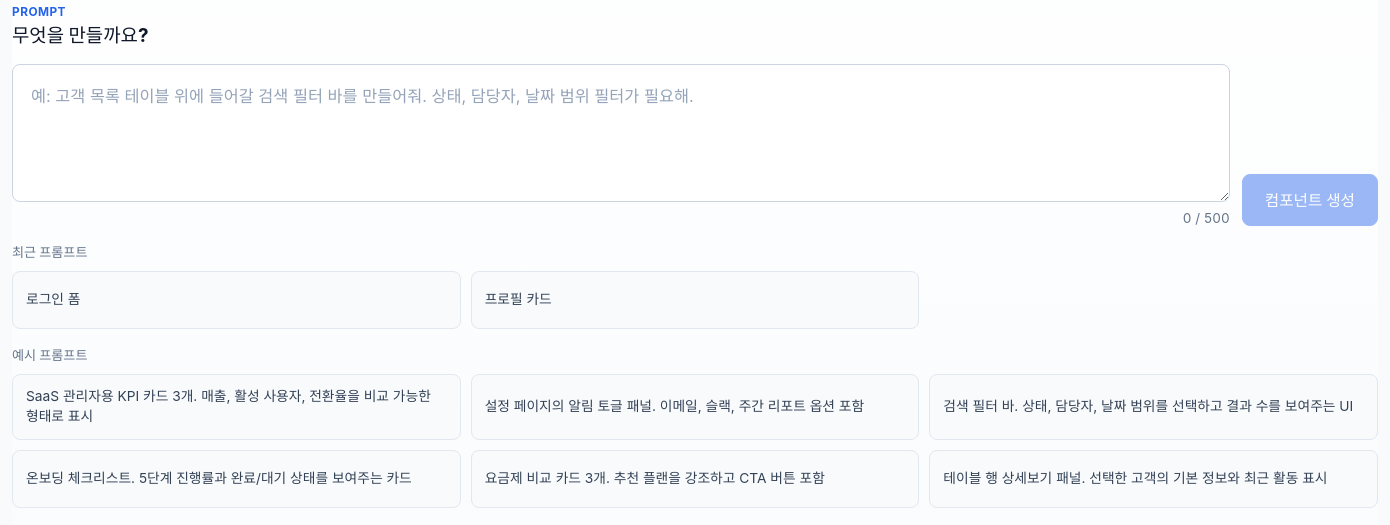
Test case: PromptInput › 최근 프롬프트 목록을 보여주고 클릭하면 입력창에 채운다
Click the button "로그인 폼": [53, 299] box 12,271 -> 461,329
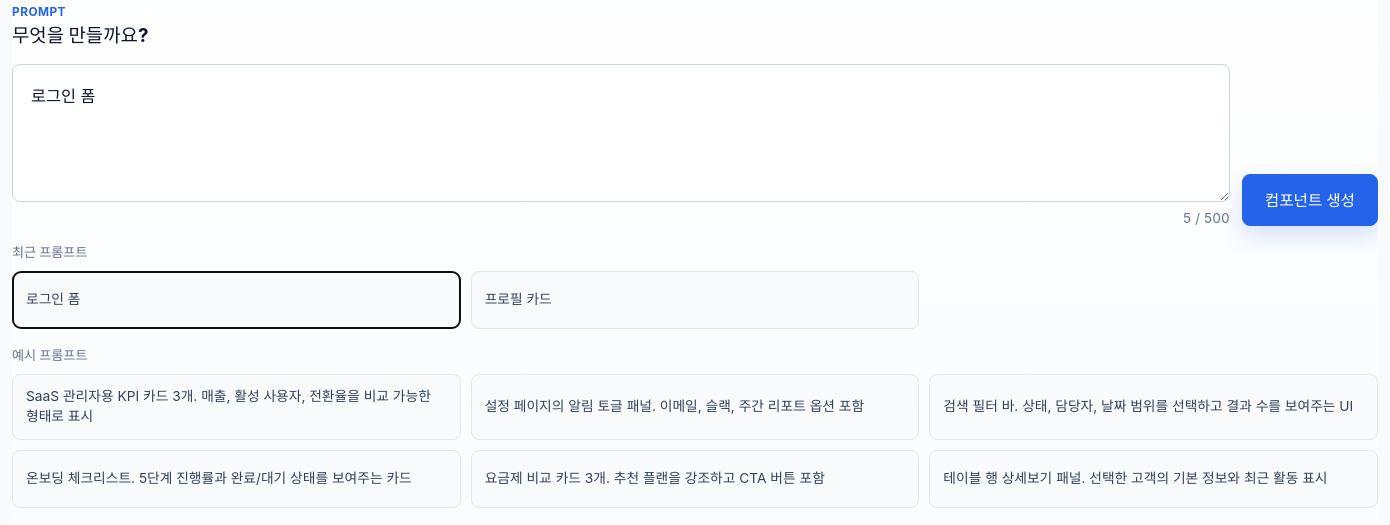
Result: the text box holds "로그인 폼" at 12,64 -> 1230,202
